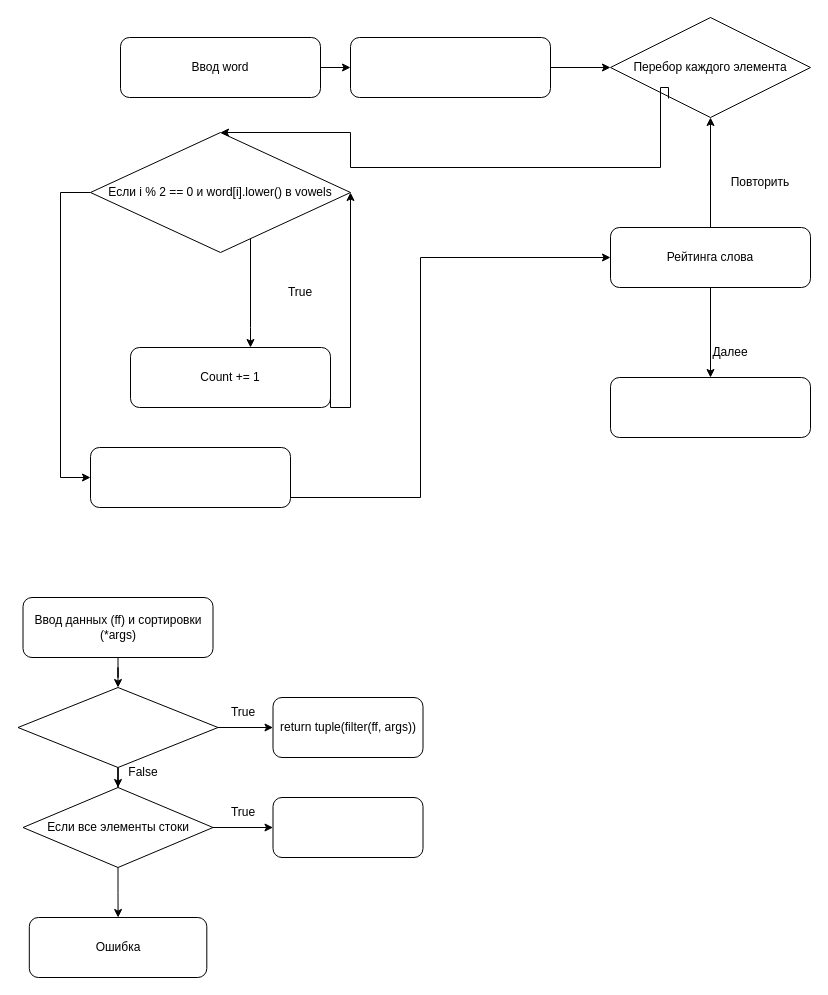
The diagram is 828 pixels wide and 995 high, and some of its shapes have lost their labels. The centre of each missing label's shape, as x and y in pixels:
return tuple(filter(lambda x: x[0].isupper(), args)): the point at 347,827
Возвращает Count: the point at 190,477
Вывод слов по возрастанию их рейтингов: the point at 710,407
Если все элементы числа: the point at 117,727
Разделение на отдельные слова: the point at 450,67
